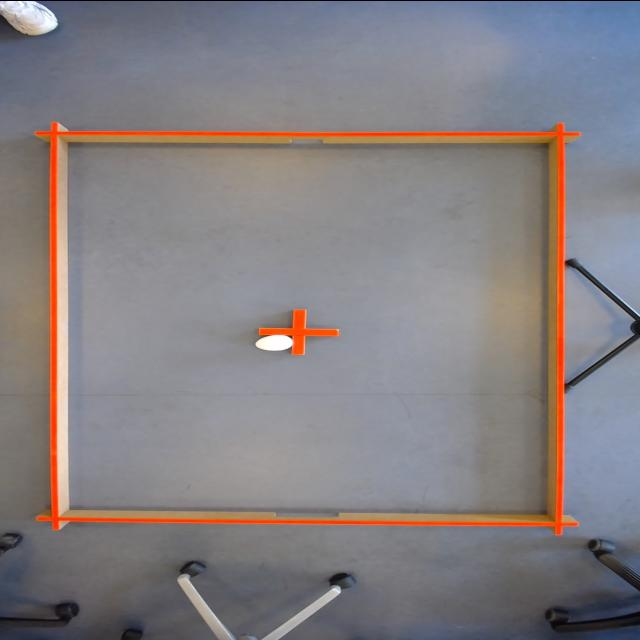cross: (255, 307, 340, 357)
egg: (252, 332, 294, 352)
